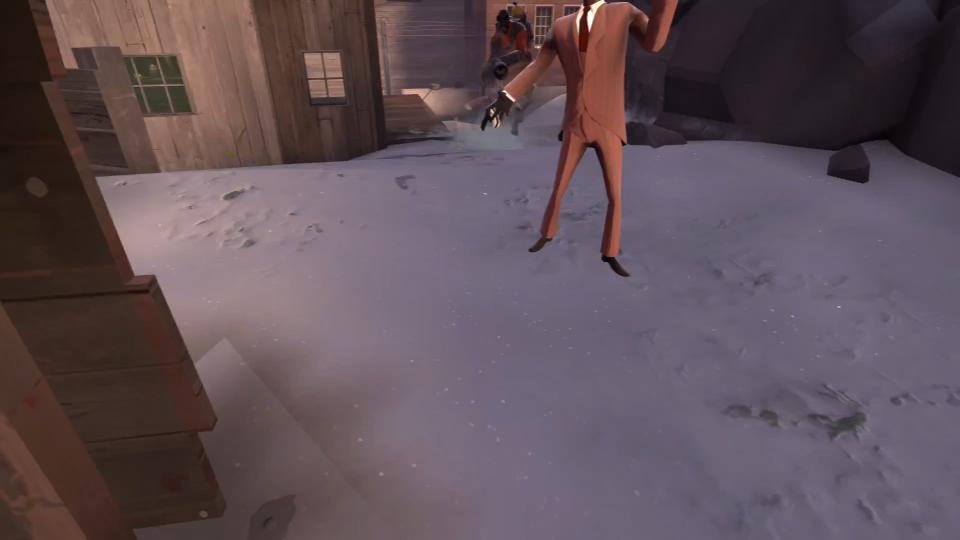Enemy: (484, 0, 682, 278), (478, 0, 536, 136)
